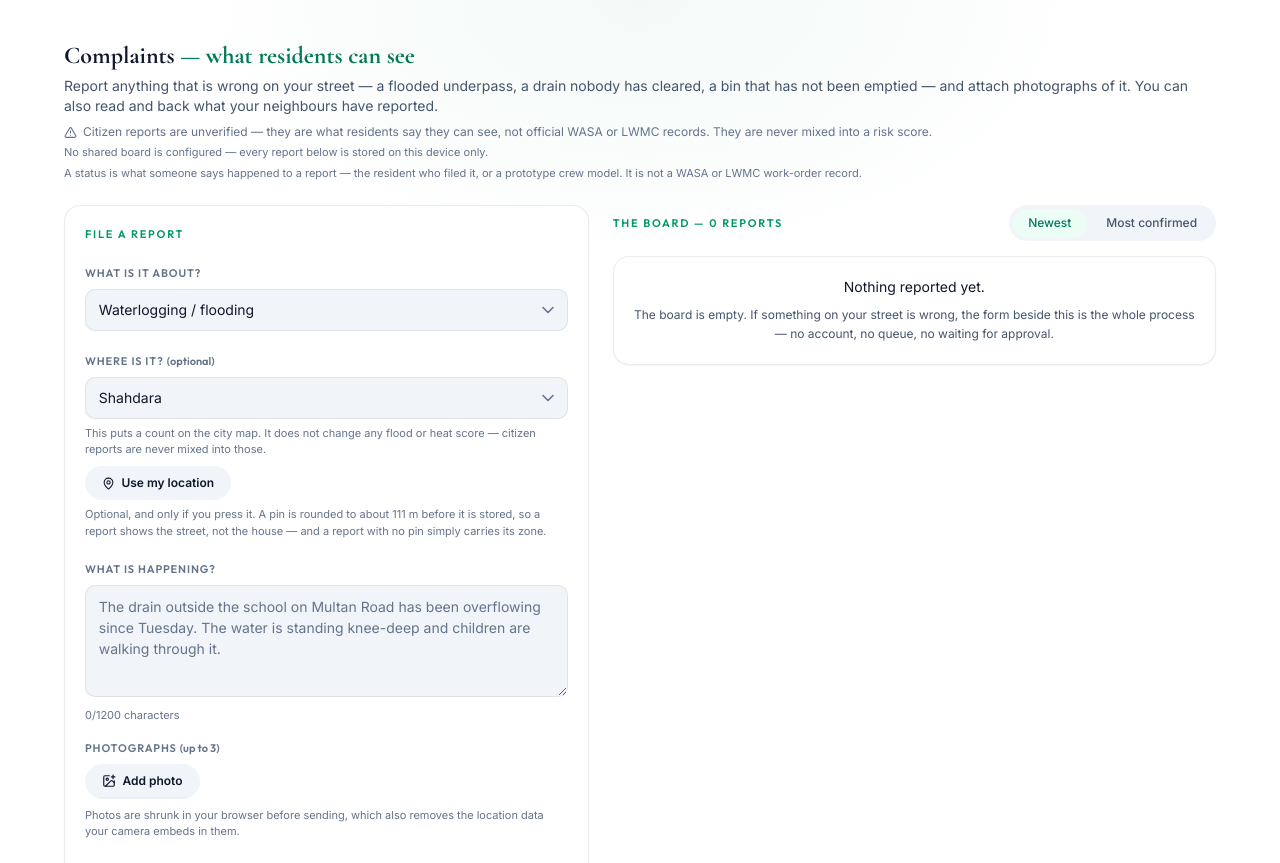
Test case: ComplaintsView — the pin is opt-in, and never exact › says so when the device cannot share a location at all
Click the button "Use my location" at (158, 483), box [85,466,231,500]
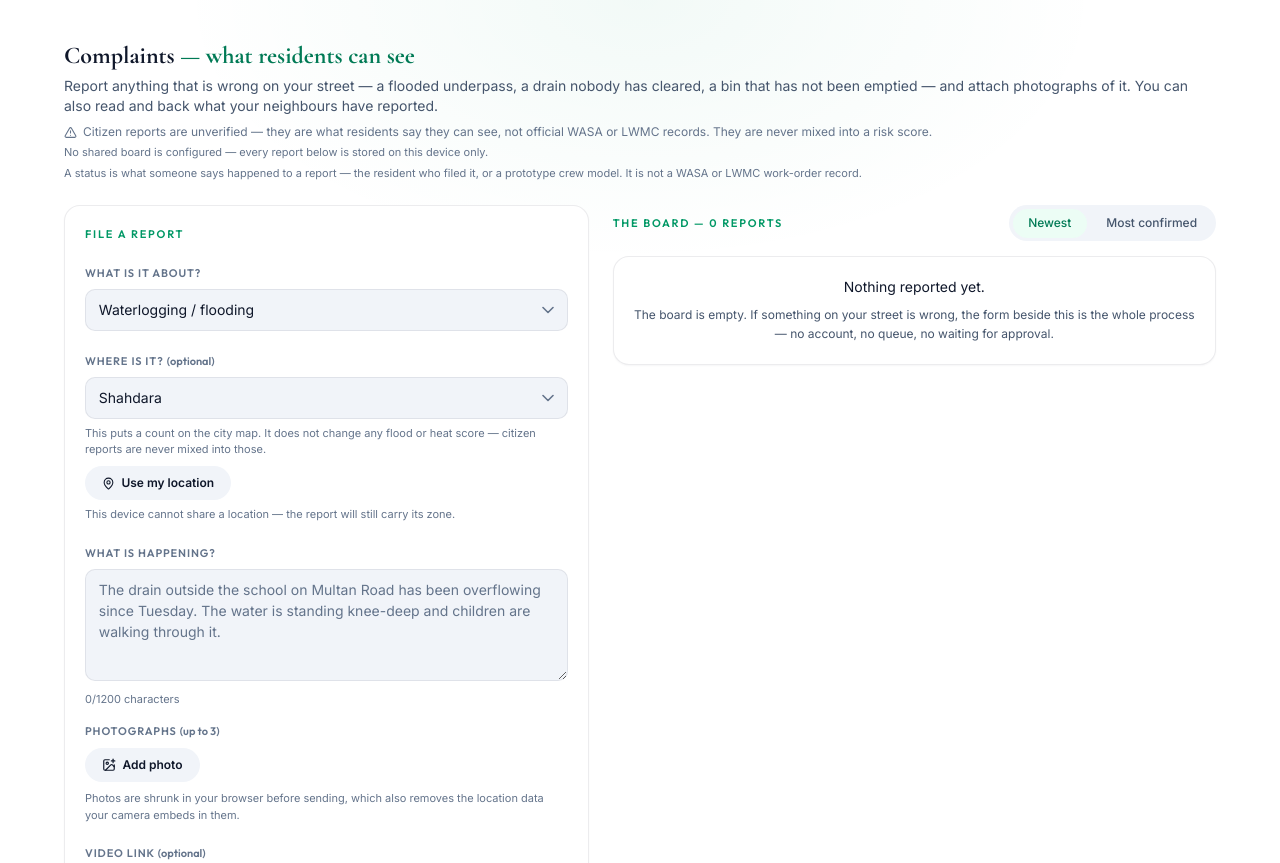
Check: the message shows "cannot share a location", box [85,507,455,521]
